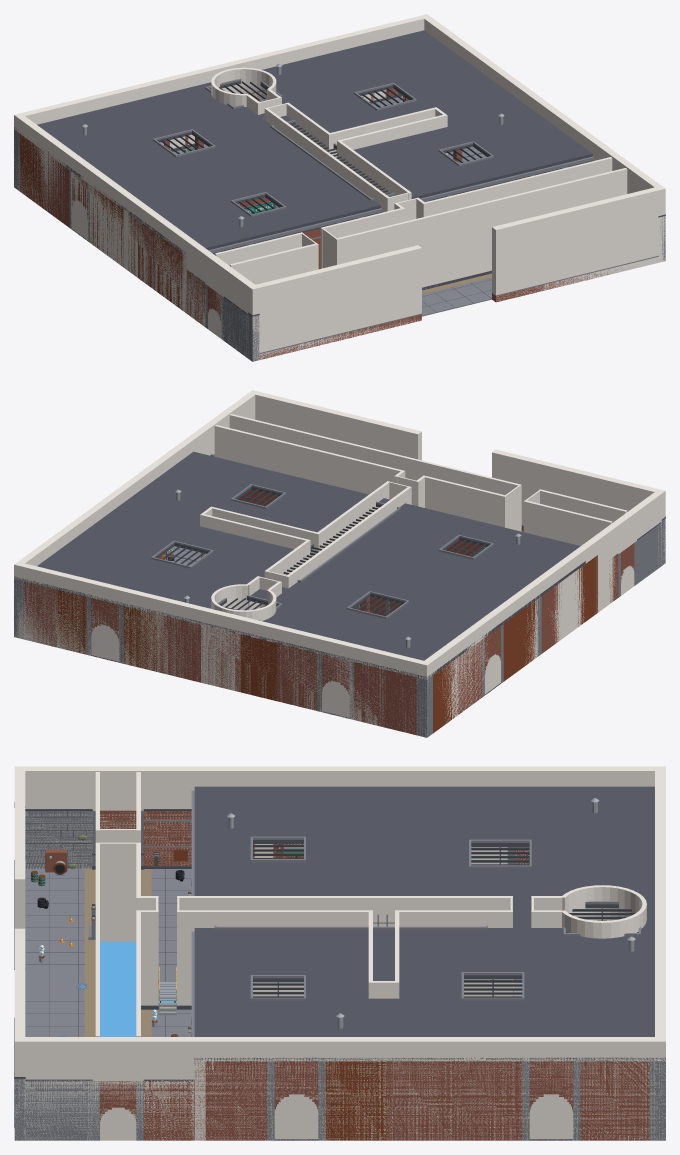
Rendered from CatCafe_Sewer_SetV32.glb.
The picture shows the model from 3 angles, top to bottom: view 1: azimuth 30°, elevation 25°; view 2: azimuth 150°, elevation 25°; view 3: azimuth 270°, elevation 25°; orthographic projection. The views are drawn at different scales.
Parts seen in each view (by area): view 1: CatCafe_Sewer_SetV32_031_Roof, CatCafe_Sewer_SetV32_027_Walls_Barrier, CatCafe_Sewer_SetV32_028_Canals_Barrier, CatCafe_Sewer_SetV32_004_Wall, CatCafe_Sewer_SetV32_006_Wall, CatCafe_Sewer_SetV32, CatCafe_Sewer_SetV32_029_TunnelFront, CatCafe_Sewer_SetV32_026_TownWall, CatCafe_Sewer_SetV32_001_Wall, CatCafe_Sewer_SetV32_005_Wall, CatCafe_Sewer_SetV32_025_TownWall, CatCafe_Sewer_SetV32_002_Wall (+3 smaller); view 2: CatCafe_Sewer_SetV32_031_Roof, CatCafe_Sewer_SetV32_027_Walls_Barrier, CatCafe_Sewer_SetV32_028_Canals_Barrier, CatCafe_Sewer_SetV32_023_Wall, CatCafe_Sewer_SetV32_022_Wall, CatCafe_Sewer_SetV32_024_Wall, CatCafe_Sewer_SetV32_021_Wall, CatCafe_Sewer_SetV32_006_Wall, CatCafe_Sewer_SetV32_004_Wall, CatCafe_Sewer_SetV32_005_Wall, CatCafe_Sewer_SetV32_032_Culvert, CatCafe_Sewer_SetV32_019_TunnelMouth (+8 smaller); view 3: CatCafe_Sewer_SetV32_031_Roof, CatCafe_Sewer_SetV32_027_Walls_Barrier, CatCafe_Sewer_SetV32_028_Canals_Barrier, CatCafe_Sewer_SetV32_015_Wall, CatCafe_Sewer_SetV32, CatCafe_Sewer_SetV32_016_Wall, CatCafe_Sewer_SetV32_014_Wall, CatCafe_Sewer_SetV32_010_Wall, CatCafe_Sewer_SetV32_001_Wall, CatCafe_Sewer_SetV32_028_Canals_Water, CatCafe_Sewer_SetV32_011_Wall, CatCafe_Sewer_SetV32_013_TunnelMouth (+9 smaller).
Boxes of the visible parts, <box> form: CatCafe_Sewer_SetV32_031_Roof: <box>14,30,592,254</box>; CatCafe_Sewer_SetV32_027_Walls_Barrier: <box>14,14,665,361</box>; CatCafe_Sewer_SetV32_028_Canals_Barrier: <box>211,67,627,288</box>; CatCafe_Sewer_SetV32_004_Wall: <box>128,213,182,310</box>; CatCafe_Sewer_SetV32_006_Wall: <box>20,134,69,227</box>; CatCafe_Sewer_SetV32: <box>173,96,491,316</box>; CatCafe_Sewer_SetV32_029_TunnelFront: <box>182,156,593,312</box>; CatCafe_Sewer_SetV32_026_TownWall: <box>259,313,422,359</box>; CatCafe_Sewer_SetV32_001_Wall: <box>224,296,248,358</box>; CatCafe_Sewer_SetV32_005_Wall: <box>91,186,123,266</box>; CatCafe_Sewer_SetV32_025_TownWall: <box>491,255,658,302</box>; CatCafe_Sewer_SetV32_002_Wall: <box>186,269,205,326</box>; CatCafe_Sewer_SetV32_031_Roof: <box>14,451,585,679</box>; CatCafe_Sewer_SetV32_027_Walls_Barrier: <box>14,390,665,736</box>; CatCafe_Sewer_SetV32_028_Canals_Barrier: <box>200,414,627,620</box>; CatCafe_Sewer_SetV32_023_Wall: <box>240,634,317,710</box>; CatCafe_Sewer_SetV32_022_Wall: <box>123,606,200,682</box>; CatCafe_Sewer_SetV32_024_Wall: <box>354,662,416,735</box>; CatCafe_Sewer_SetV32_021_Wall: <box>24,581,86,654</box>; CatCafe_Sewer_SetV32_006_Wall: <box>433,640,482,733</box>; CatCafe_Sewer_SetV32_004_Wall: <box>541,557,595,653</box>; CatCafe_Sewer_SetV32_005_Wall: <box>503,600,536,681</box>; CatCafe_Sewer_SetV32_032_Culvert: <box>201,626,239,691</box>; CatCafe_Sewer_SetV32_019_TunnelMouth: <box>86,597,123,663</box>; CatCafe_Sewer_SetV32_031_Roof: <box>194,786,665,1061</box>; CatCafe_Sewer_SetV32_027_Walls_Barrier: <box>14,766,665,1140</box>; CatCafe_Sewer_SetV32_028_Canals_Barrier: <box>95,772,646,1036</box>; CatCafe_Sewer_SetV32_015_Wall: <box>325,1061,522,1140</box>; CatCafe_Sewer_SetV32: <box>25,868,522,1036</box>; CatCafe_Sewer_SetV32_016_Wall: <box>580,1061,649,1140</box>; CatCafe_Sewer_SetV32_014_Wall: <box>205,1061,267,1140</box>; CatCafe_Sewer_SetV32_010_Wall: <box>25,1079,92,1140</box>; CatCafe_Sewer_SetV32_001_Wall: <box>25,809,92,868</box>; CatCafe_Sewer_SetV32_028_Canals_Water: <box>100,941,176,1036</box>; CatCafe_Sewer_SetV32_011_Wall: <box>143,1079,194,1140</box>; CatCafe_Sewer_SetV32_013_TunnelMouth: <box>522,1061,580,1140</box>.
Size of the model in its own units: 179 by 30 by 179.
1 material, 1 textured.
